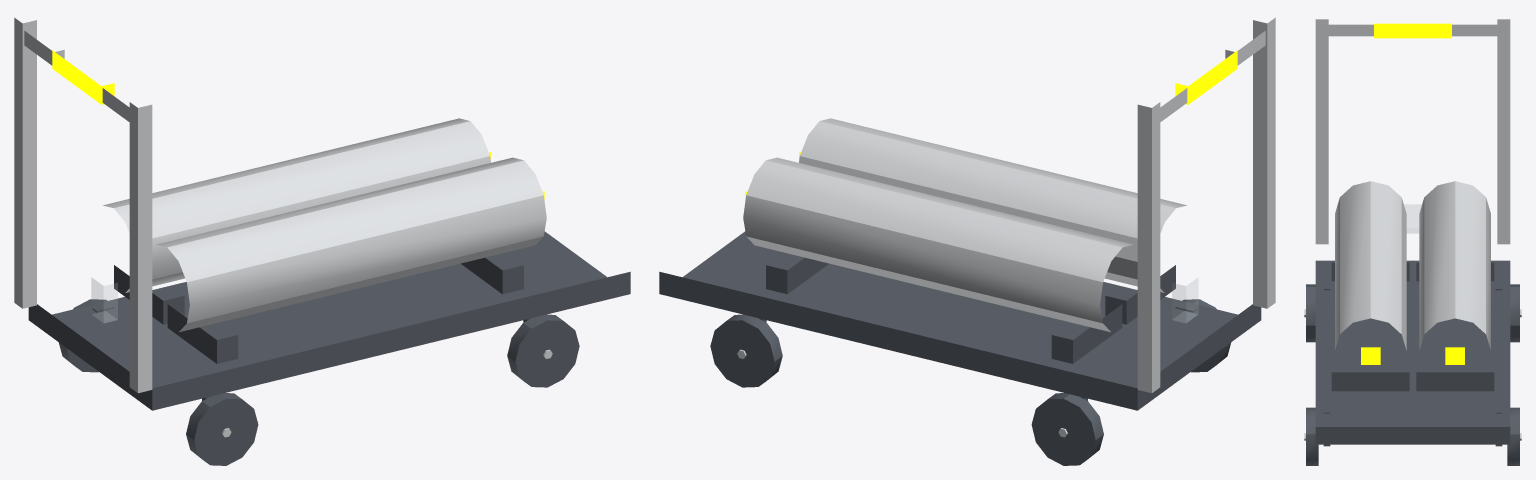
Rendered from ext_service_hand_cart_05.glb.
3 renders of one model, left to right at view 1: azimuth 30°, elevation 25°; view 2: azimuth 150°, elevation 25°; view 3: azimuth 270°, elevation 25°, orthographic. The views are drawn at different scales.
Parts seen in each view (by area): view 1: Tanks, Deck, Handle, Wheels, Cradle, Grip, Gauge_Glass; view 2: Tanks, Deck, Handle, Wheels, Cradle, Grip, Gauge_Glass; view 3: Deck, Tanks, Handle, Cradle, Wheels, Grip, Valve_Caps, Gauge_Glass.
Boxes of the visible parts, x1=… form: Tanks: x1=103, y1=118, x2=546, y2=332; Deck: x1=28, y1=231, x2=630, y2=410; Handle: x1=14, y1=17, x2=152, y2=393; Wheels: x1=58, y1=299, x2=579, y2=465; Cradle: x1=114, y1=257, x2=523, y2=363; Grip: x1=52, y1=50, x2=114, y2=104; Gauge_Glass: x1=91, y1=278, x2=117, y2=322; Tanks: x1=743, y1=118, x2=1186, y2=332; Deck: x1=659, y1=231, x2=1261, y2=410; Handle: x1=1137, y1=17, x2=1275, y2=393; Wheels: x1=710, y1=299, x2=1231, y2=465; Cradle: x1=766, y1=257, x2=1175, y2=363; Grip: x1=1175, y1=50, x2=1237, y2=104; Gauge_Glass: x1=1172, y1=278, x2=1198, y2=322; Deck: x1=1315, y1=260, x2=1510, y2=444; Tanks: x1=1335, y1=181, x2=1490, y2=350; Handle: x1=1315, y1=19, x2=1510, y2=244; Cradle: x1=1331, y1=262, x2=1494, y2=391; Wheels: x1=1306, y1=284, x2=1519, y2=465; Grip: x1=1374, y1=23, x2=1451, y2=38; Valve_Caps: x1=1361, y1=347, x2=1464, y2=364; Gauge_Glass: x1=1404, y1=204, x2=1421, y2=233.
Bounding box in the file's own units: 1.38 × 1 × 0.67.
